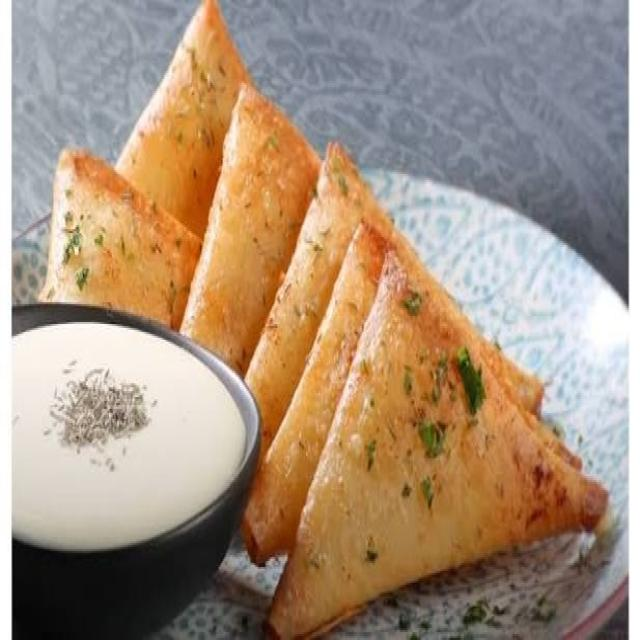Samboosa: (41, 12, 578, 581)
